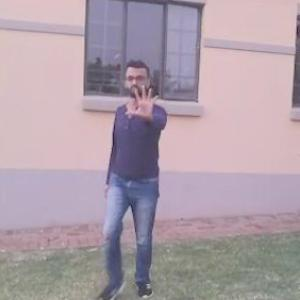follow_hand: (122, 76, 163, 123)
